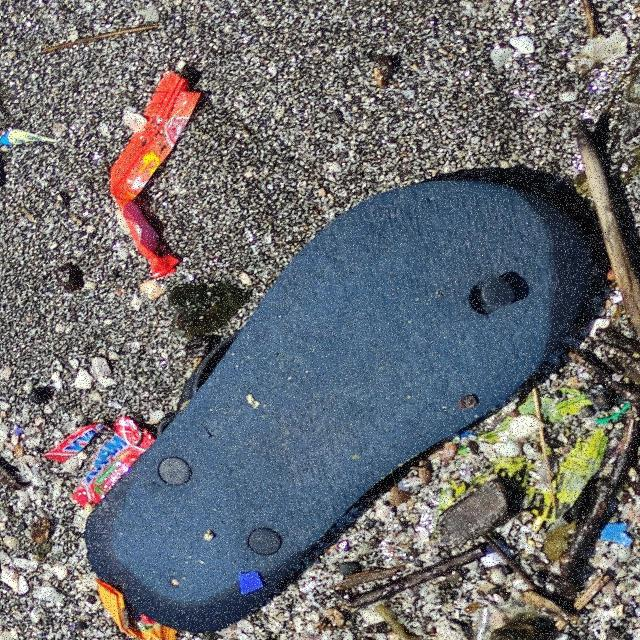plastic_waste: (107, 75, 201, 280)
rubber_waste: (85, 179, 596, 631)
